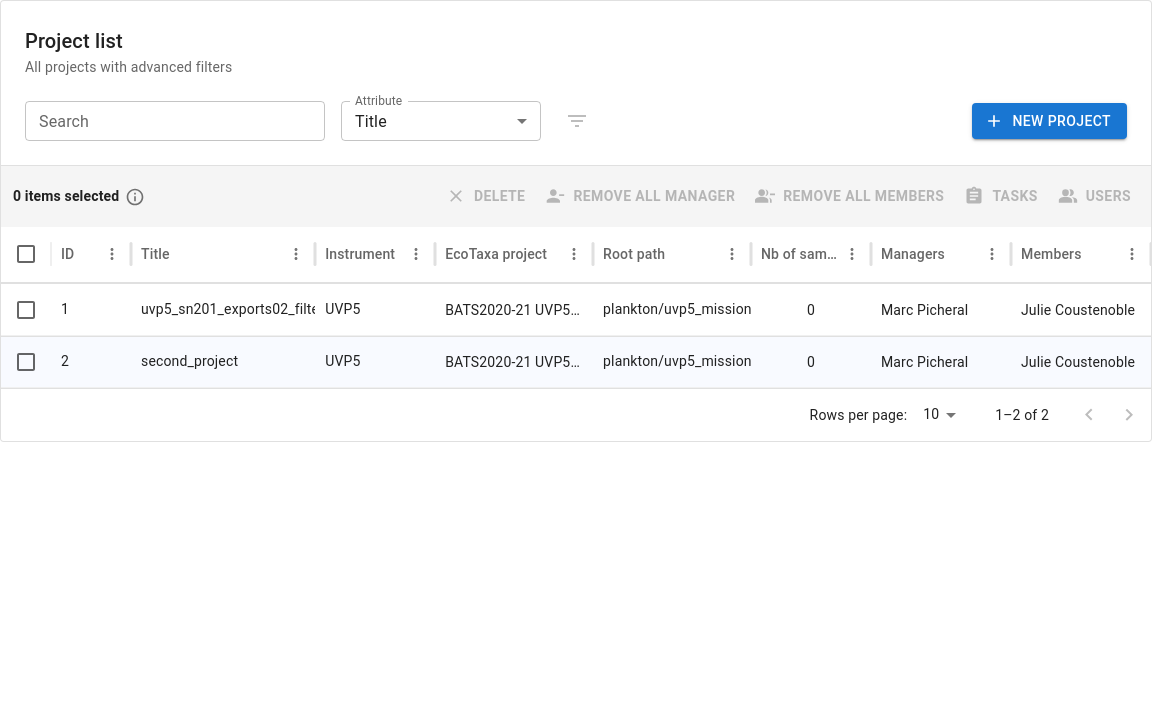
Test: AdminProjectsTab › TC-AG12: keeps only the failed projects selected when some deletions fail
The width and height of the screenshot is (1164, 720).
Check: the text "second_project" is shown, box x1=131 y1=336 x2=315 y2=388
Click the checkbox named "Select row".
click(26, 310)  # box x1=14 y1=298 x2=38 y2=322
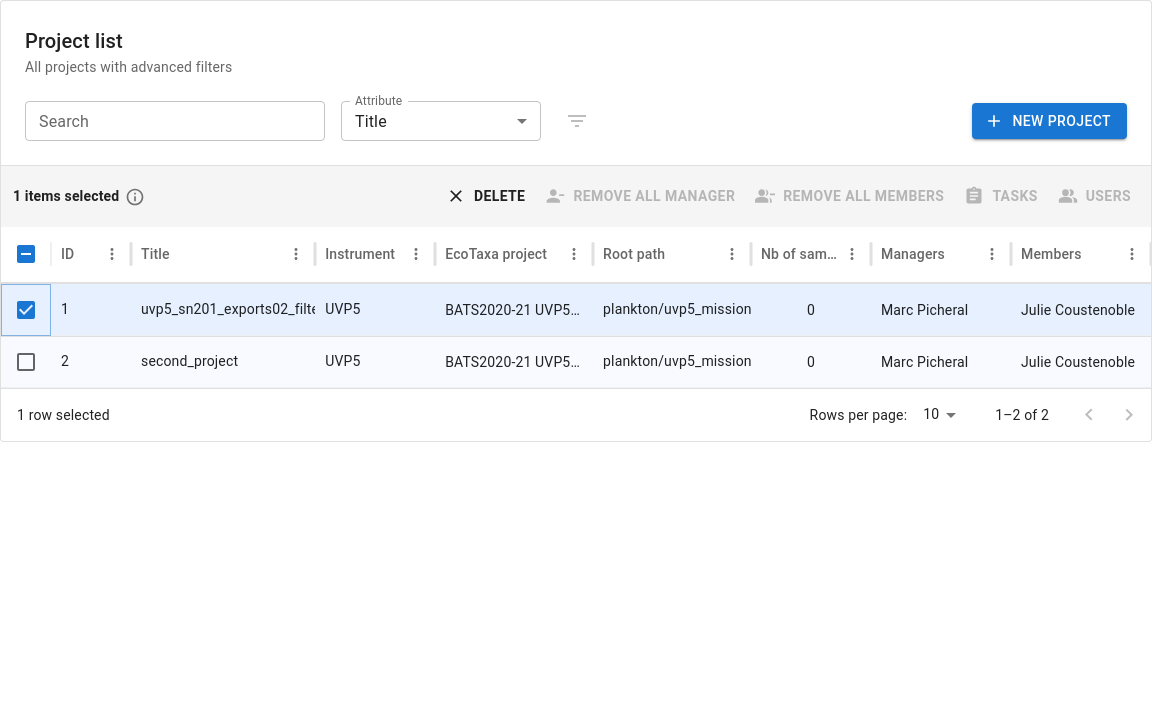
Click the checkbox named "Select row".
click(26, 362)  # box x1=14 y1=350 x2=38 y2=374
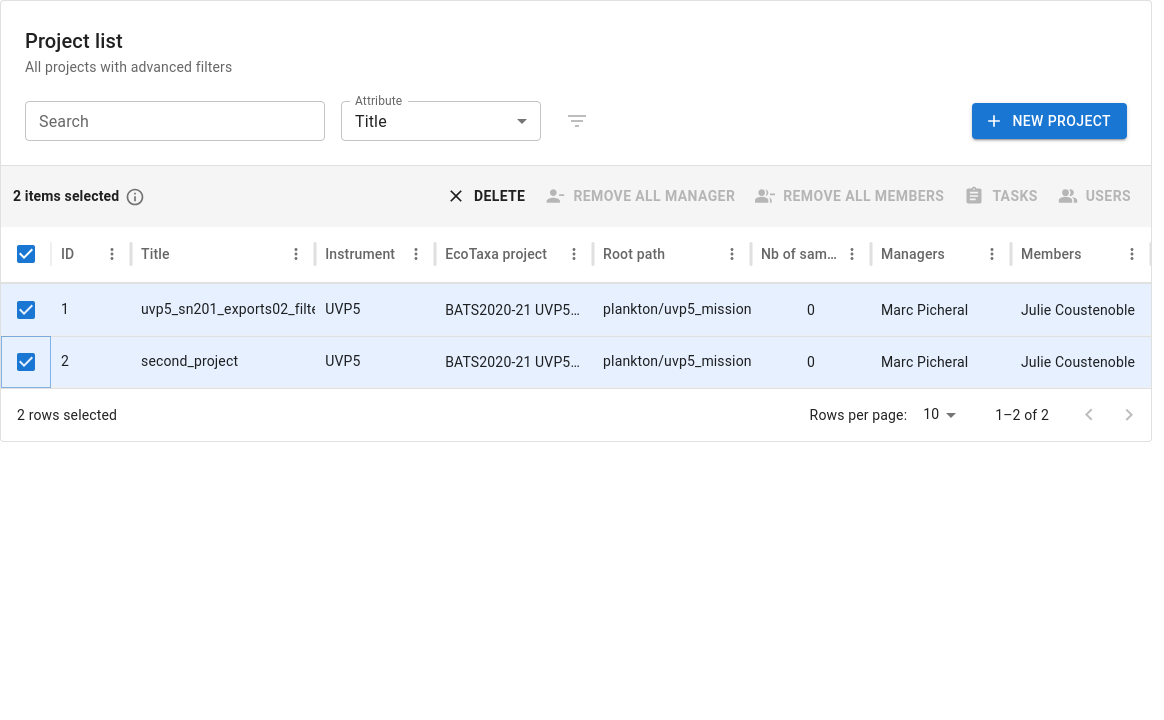
Click the button "DELETE".
click(488, 196)  # box x1=442 y1=178 x2=533 y2=214
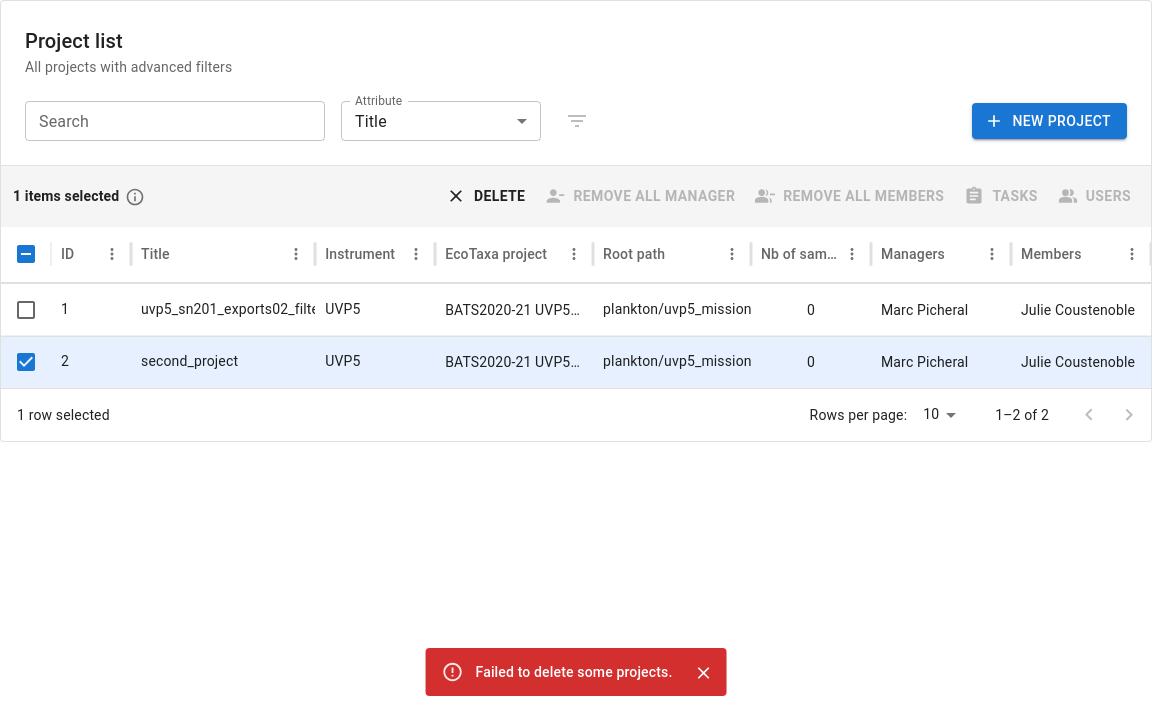
Check: the text "Failed to delete some projects." is shown, box x1=476 y1=664 x2=672 y2=680
Check: the text "1 items selected" is shown, box x1=13 y1=186 x2=145 y2=207
